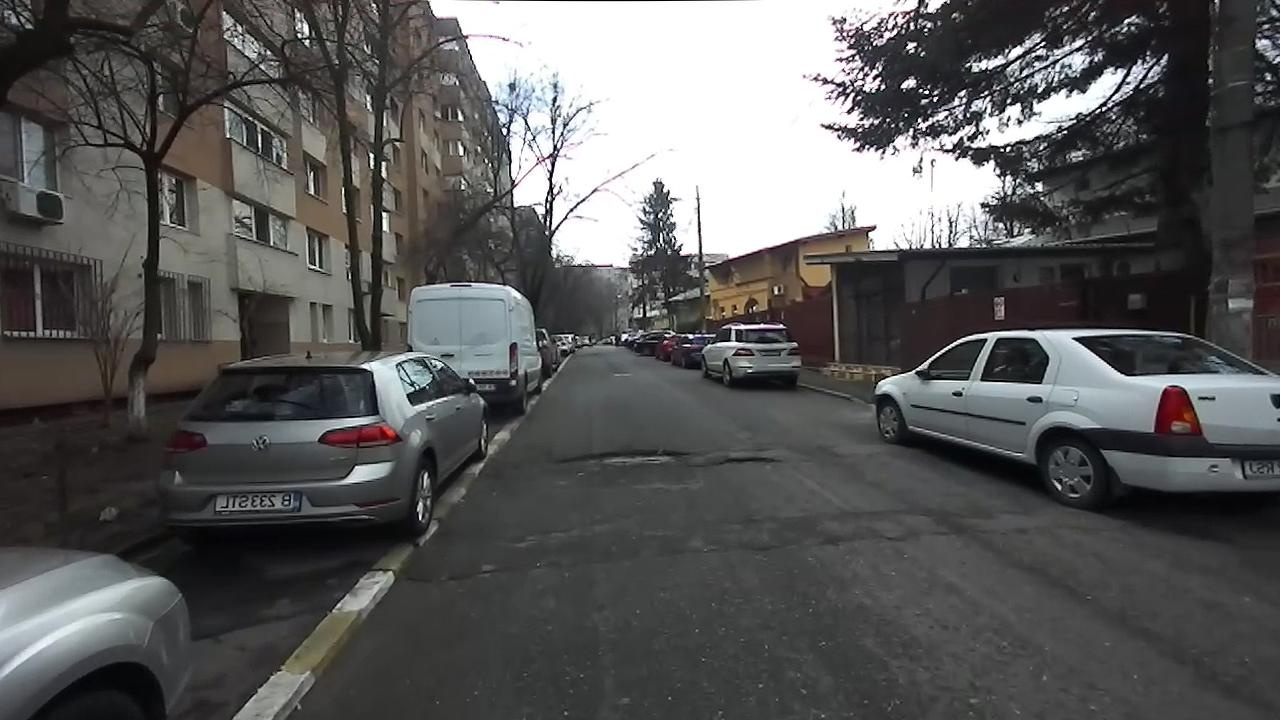pothole: (549, 445, 694, 470), (406, 562, 503, 594), (709, 451, 784, 466)
